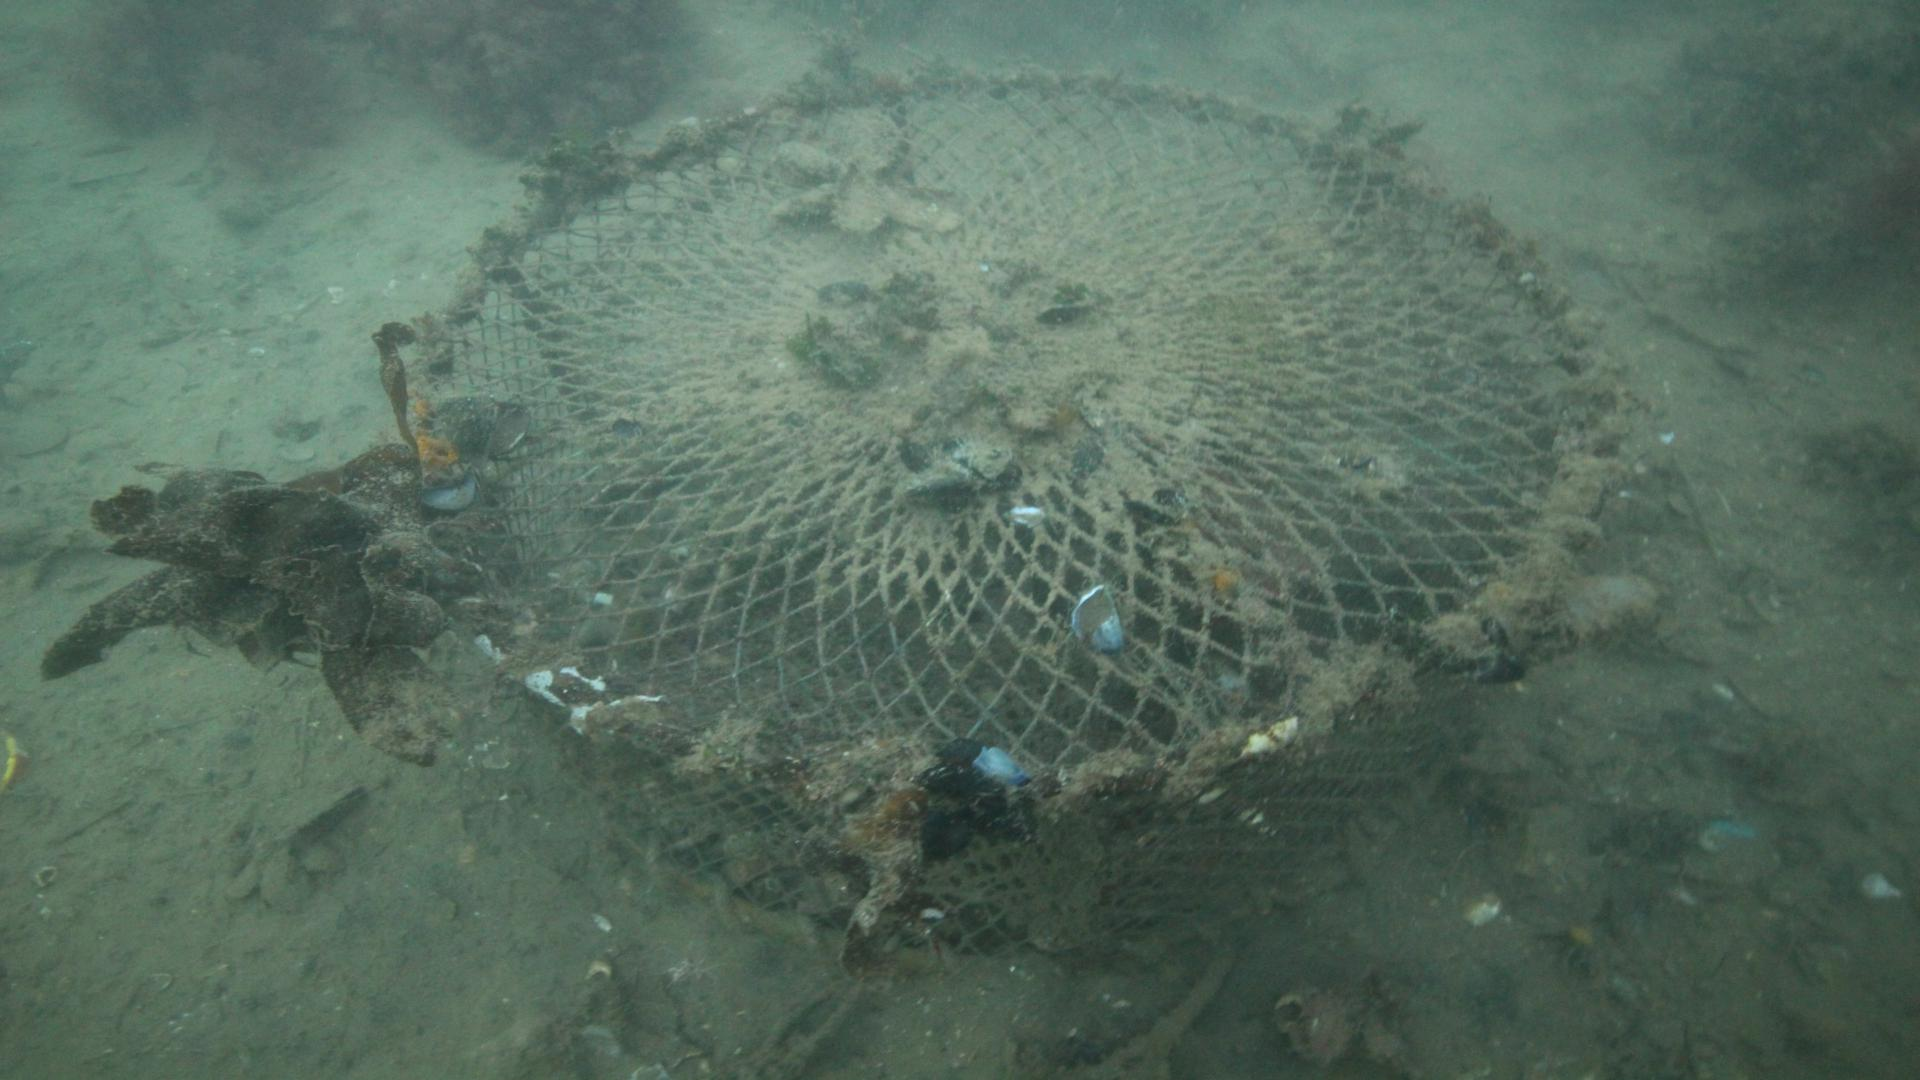circular fish trap: (404, 59, 1633, 975)
